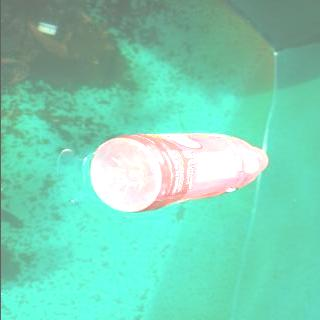bottle: (87, 132, 270, 214)
